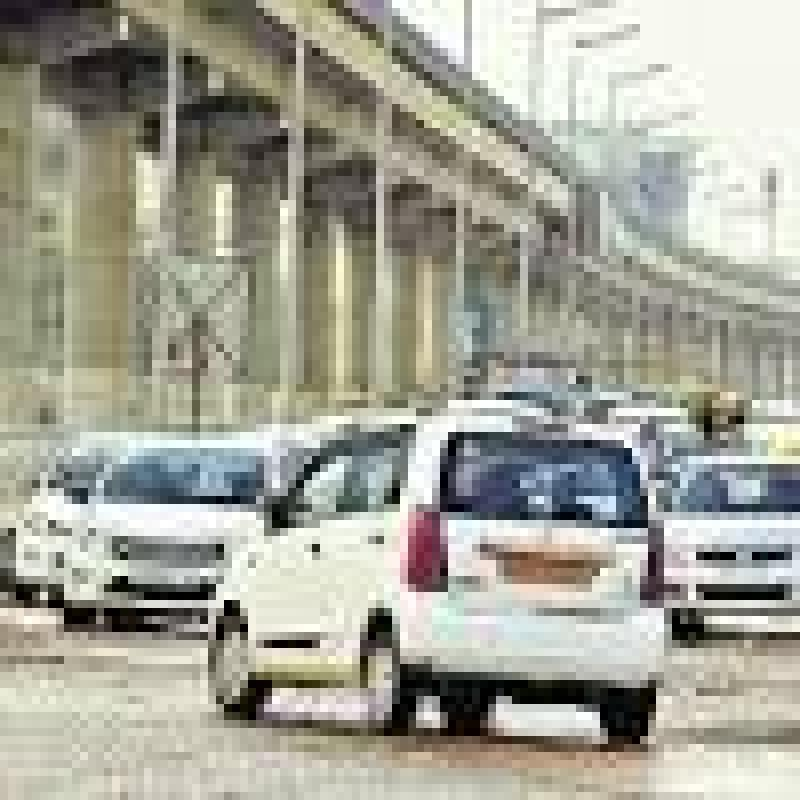car: (203, 424, 690, 800), (66, 440, 272, 619), (666, 440, 800, 640)
